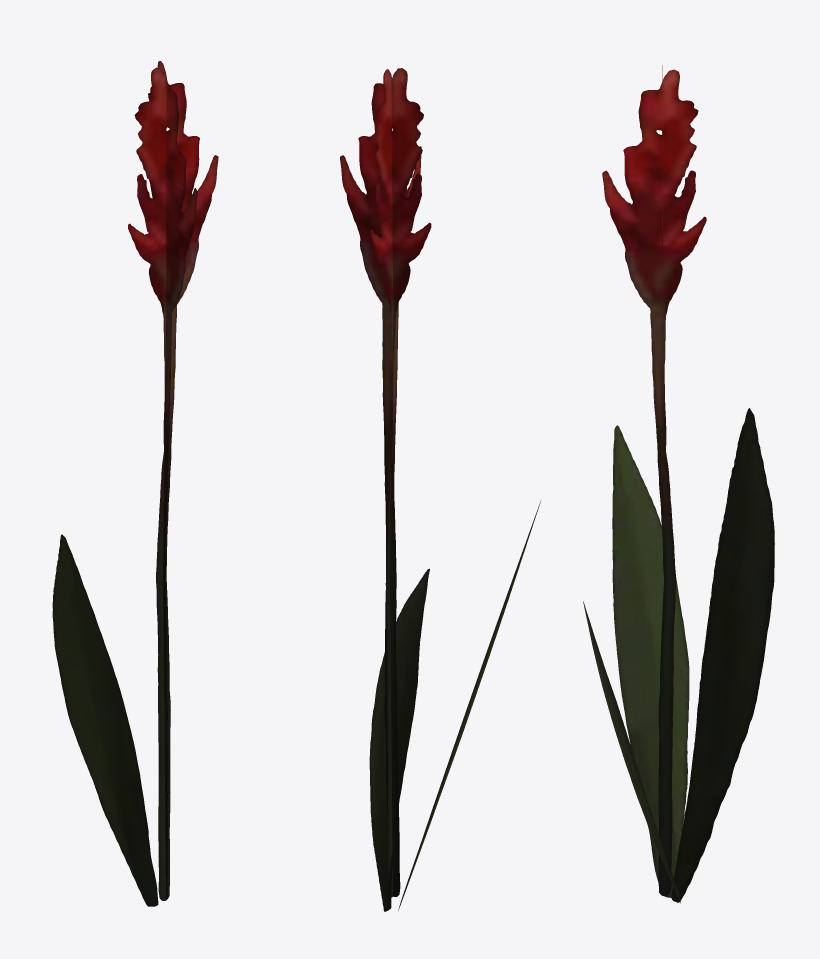
The picture shows the model from 3 angles, left to right: view 1: azimuth 30°, elevation 25°; view 2: azimuth 150°, elevation 25°; view 3: azimuth 270°, elevation 25°; orthographic projection.
Visible parts, largest first — view 1: body0_model0_lod0_mesh0; view 2: body0_model0_lod0_mesh0; view 3: body0_model0_lod0_mesh0.
Boxes of the visible parts, x1=… form: body0_model0_lod0_mesh0: x1=52, y1=61, x2=218, y2=906; body0_model0_lod0_mesh0: x1=340, y1=68, x2=540, y2=911; body0_model0_lod0_mesh0: x1=583, y1=65, x2=774, y2=903.
Bounding box in the file's own units: 28.75 × 110 × 26.32.
Materials: 1 (1 with a texture image).
